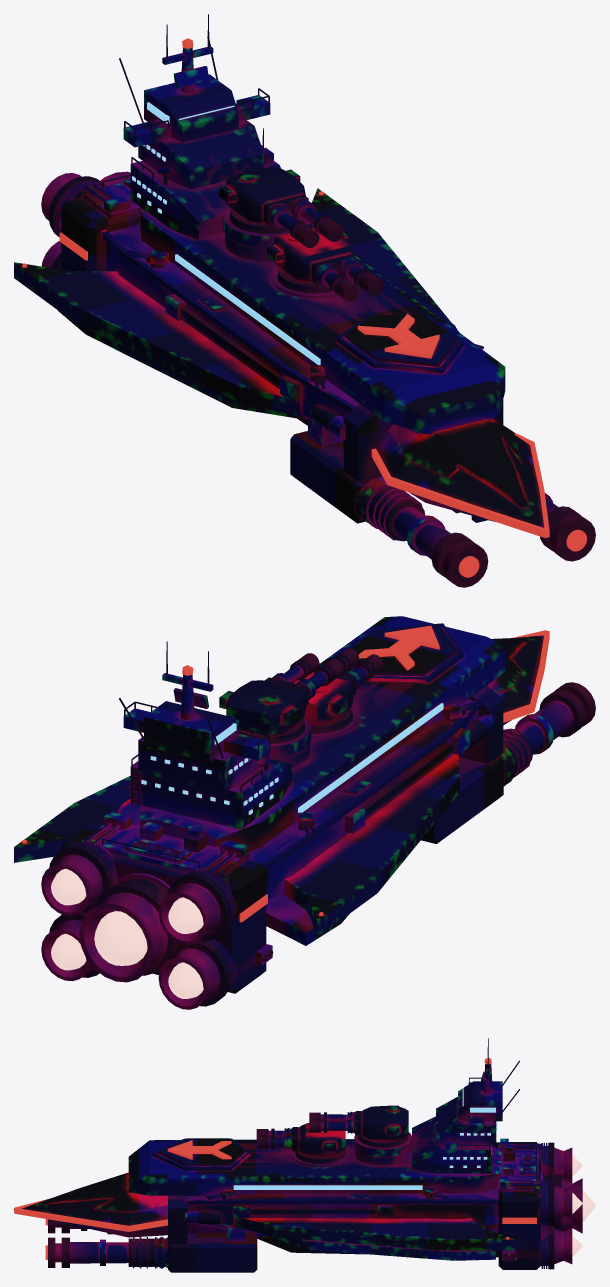
Rendered from vanguard.glb.
3 renders of one model, top to bottom at view 1: azimuth 30°, elevation 25°; view 2: azimuth 150°, elevation 25°; view 3: azimuth 270°, elevation 25°, orthographic. The views are drawn at different scales.
Parts seen in each view (by area): view 1: vanguard; view 2: vanguard; view 3: vanguard.
Boxes of the visible parts, <box> form: vanguard: <box>14,14,595,587</box>; vanguard: <box>14,616,595,1009</box>; vanguard: <box>14,1038,595,1272</box>.
Bounding box in the file's own units: 4.4 × 4.47 × 11.09.
Materials: 14 (10 with a texture image).
